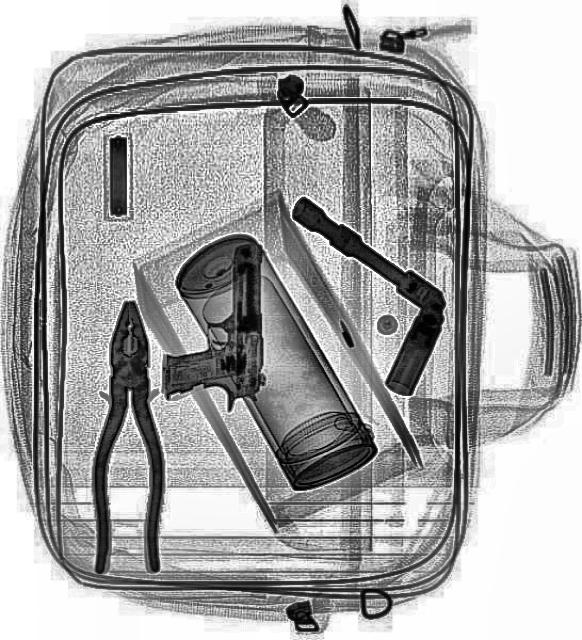Gun: (160, 243, 264, 413)
Pliers: (90, 298, 164, 572)
